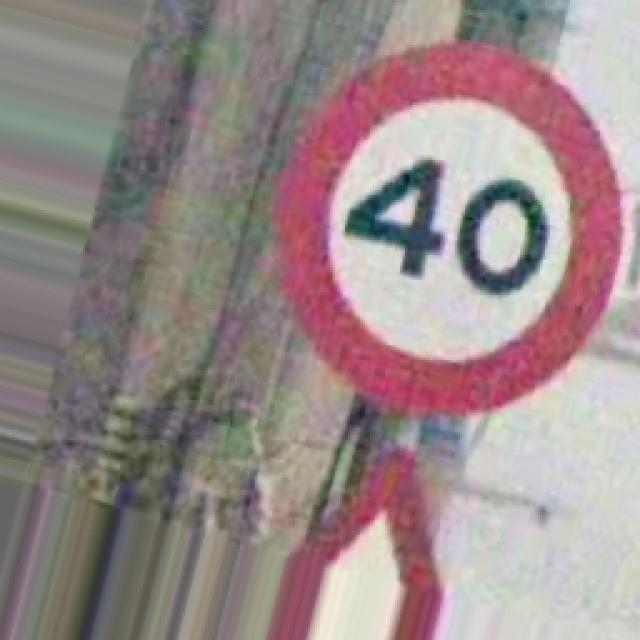Speed Limit -40-: (278, 42, 620, 410)
